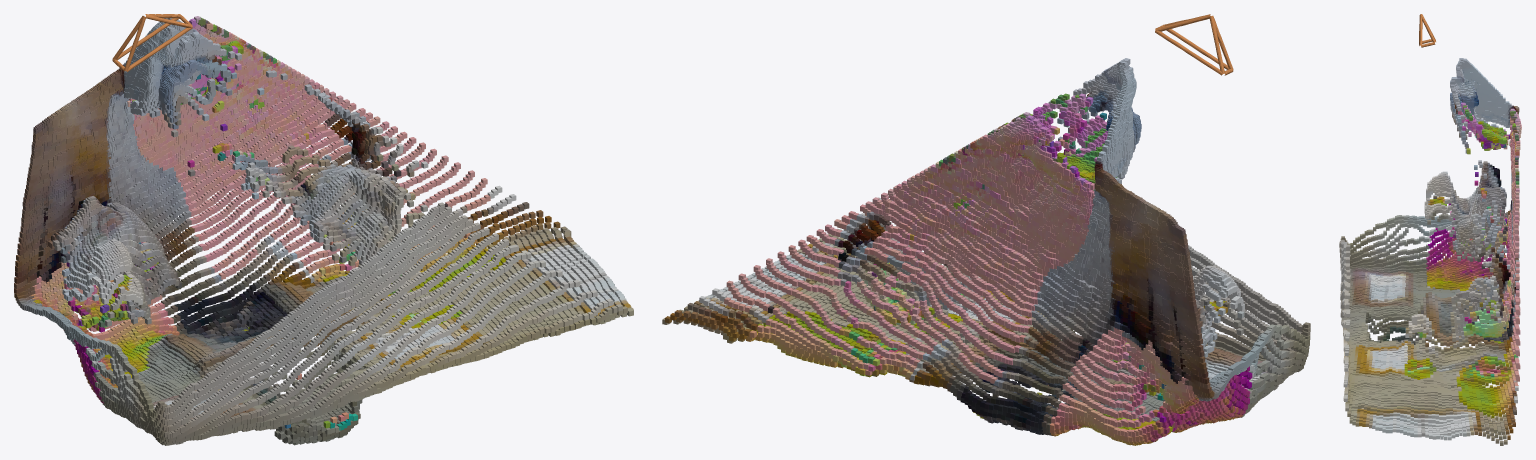
File: pred_1-compressed.glb
3 renders of one model, left to right at view 1: azimuth 30°, elevation 25°; view 2: azimuth 150°, elevation 25°; view 3: azimuth 270°, elevation 25°, orthographic. The views are drawn at different scales.
Size of the model in its own units: 6.16 by 4.67 by 2.53.
